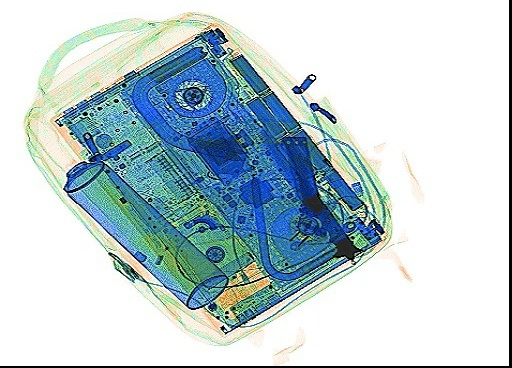knife: (258, 127, 363, 265), (278, 134, 324, 216)
pressure: (60, 156, 229, 310)
